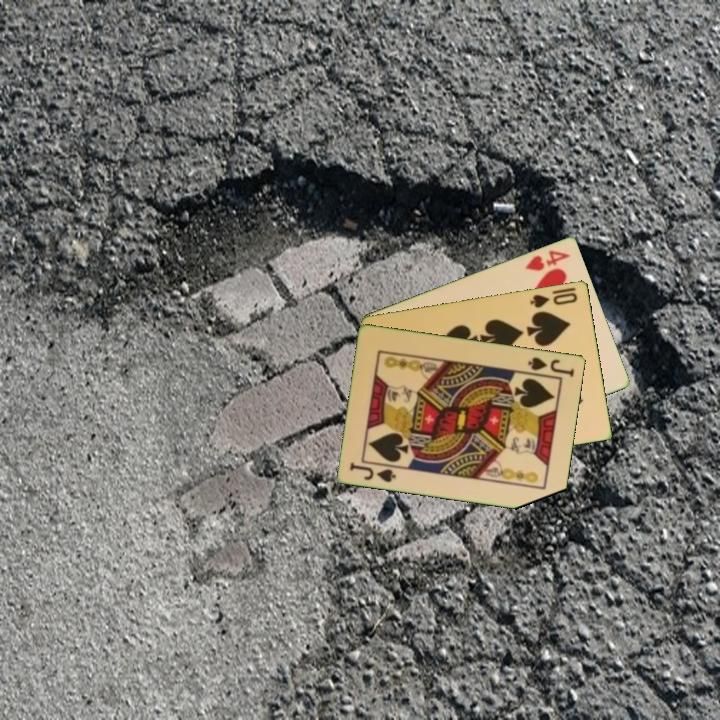10s: (527, 289, 580, 310)
4h: (522, 246, 573, 274)
Js: (346, 458, 399, 485), (525, 353, 578, 379)
